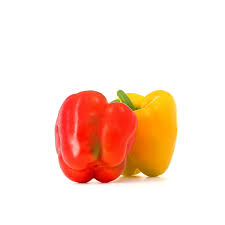bell pepper: (49, 87, 133, 185), (105, 92, 178, 182)
